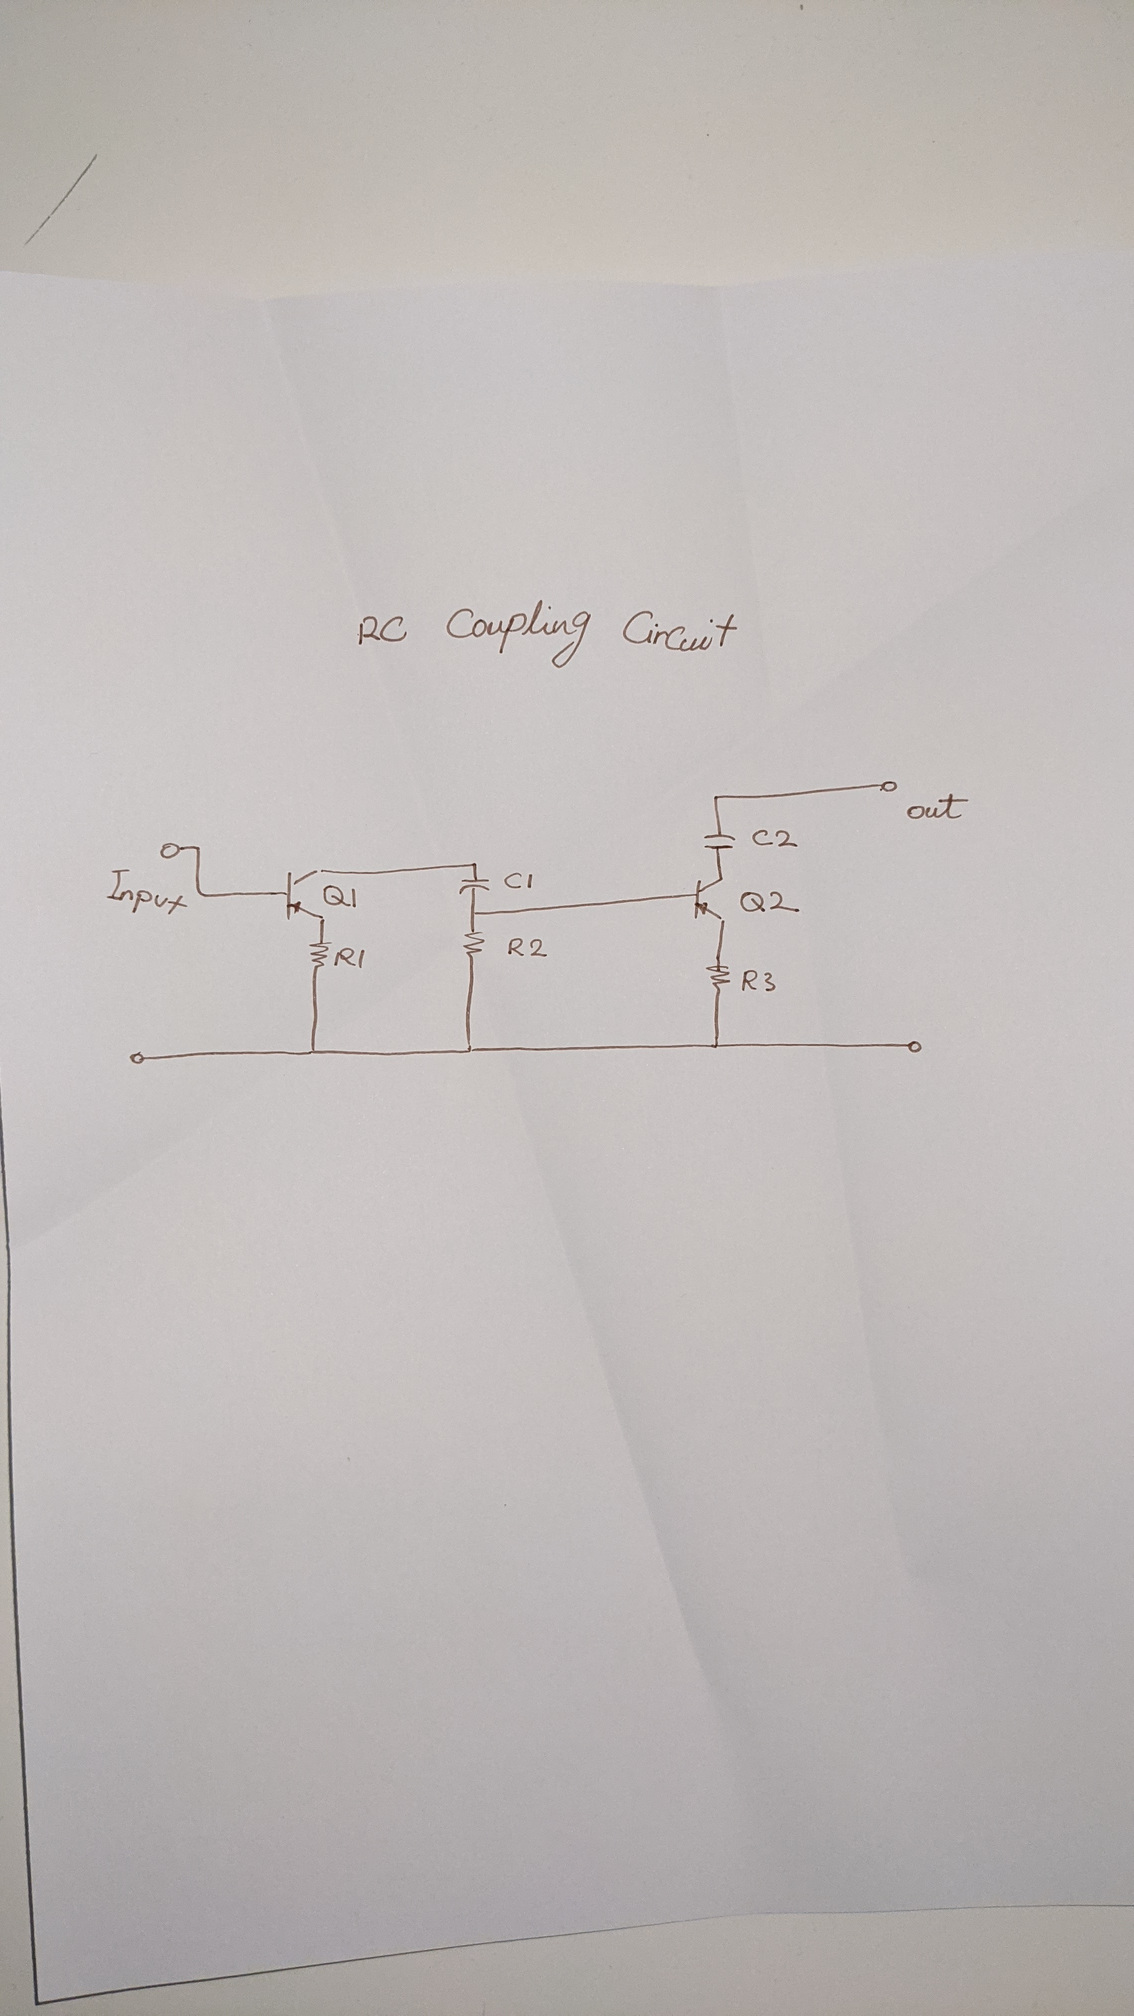capacitor.unpolarized: (701, 832, 739, 853), (457, 876, 492, 897)
junction: (462, 1041, 479, 1056), (194, 885, 208, 900), (307, 1045, 320, 1056), (710, 1040, 723, 1051), (468, 908, 479, 918), (469, 860, 480, 870), (192, 845, 204, 853), (712, 793, 723, 802)
resistor: (703, 962, 732, 997), (460, 928, 485, 964), (306, 939, 332, 971)
terminal: (158, 840, 186, 861), (127, 1050, 148, 1066), (906, 1038, 928, 1054), (876, 780, 899, 793)
text: (354, 597, 739, 672), (105, 867, 188, 917), (906, 792, 971, 822), (738, 888, 800, 914), (750, 827, 800, 850), (505, 936, 548, 960), (321, 883, 359, 910), (739, 966, 777, 993), (332, 944, 367, 971), (503, 870, 534, 890)
transistor: (282, 865, 330, 924), (692, 874, 731, 926)
